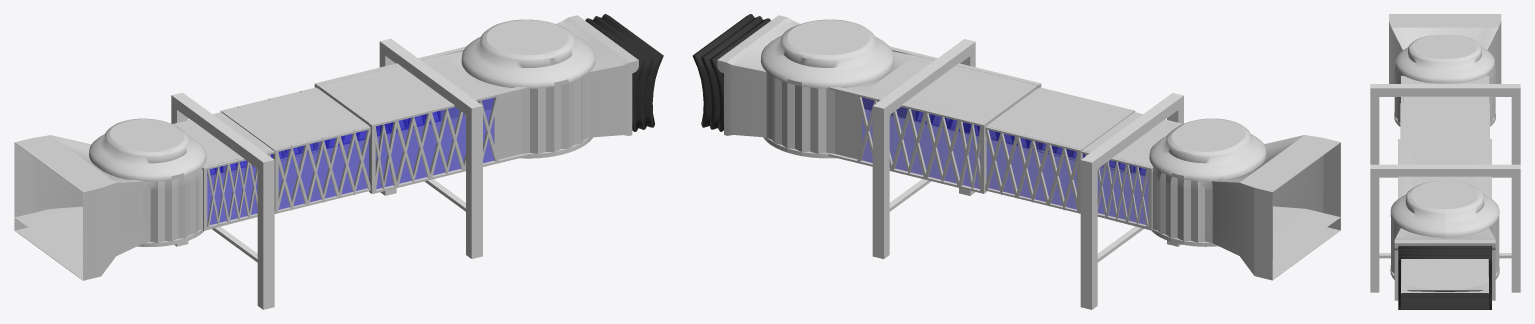
Rendered from jetway.glb.
3 renders of one model, left to right at view 1: azimuth 30°, elevation 25°; view 2: azimuth 150°, elevation 25°; view 3: azimuth 270°, elevation 25°, orthographic. The views are drawn at different scales.
Parts seen in each view (by area): view 1: jetway, stand; view 2: jetway, stand; view 3: jetway, stand.
Boxes of the visible parts, x1=… form: jetway: x1=14, y1=14, x2=663, y2=280; stand: x1=171, y1=38, x2=482, y2=309; jetway: x1=692, y1=14, x2=1340, y2=280; stand: x1=872, y1=39, x2=1183, y2=309; jetway: x1=1389, y1=14, x2=1501, y2=309; stand: x1=1370, y1=84, x2=1520, y2=292.
Bounding box in the file's own units: 19.7 × 5.21 × 5.31.
